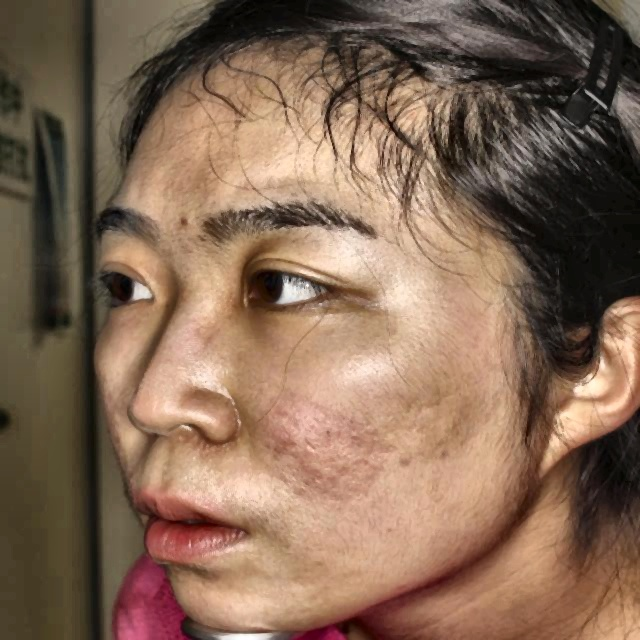comedone: (175, 210, 204, 240)
